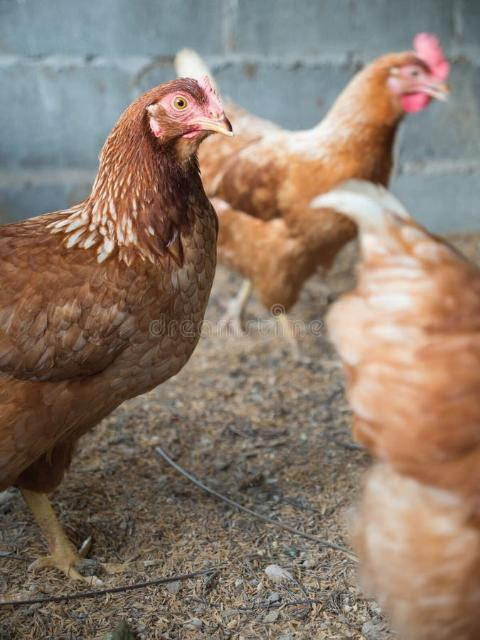Chicken: (0, 73, 239, 587), (167, 32, 458, 364), (307, 179, 480, 640)
